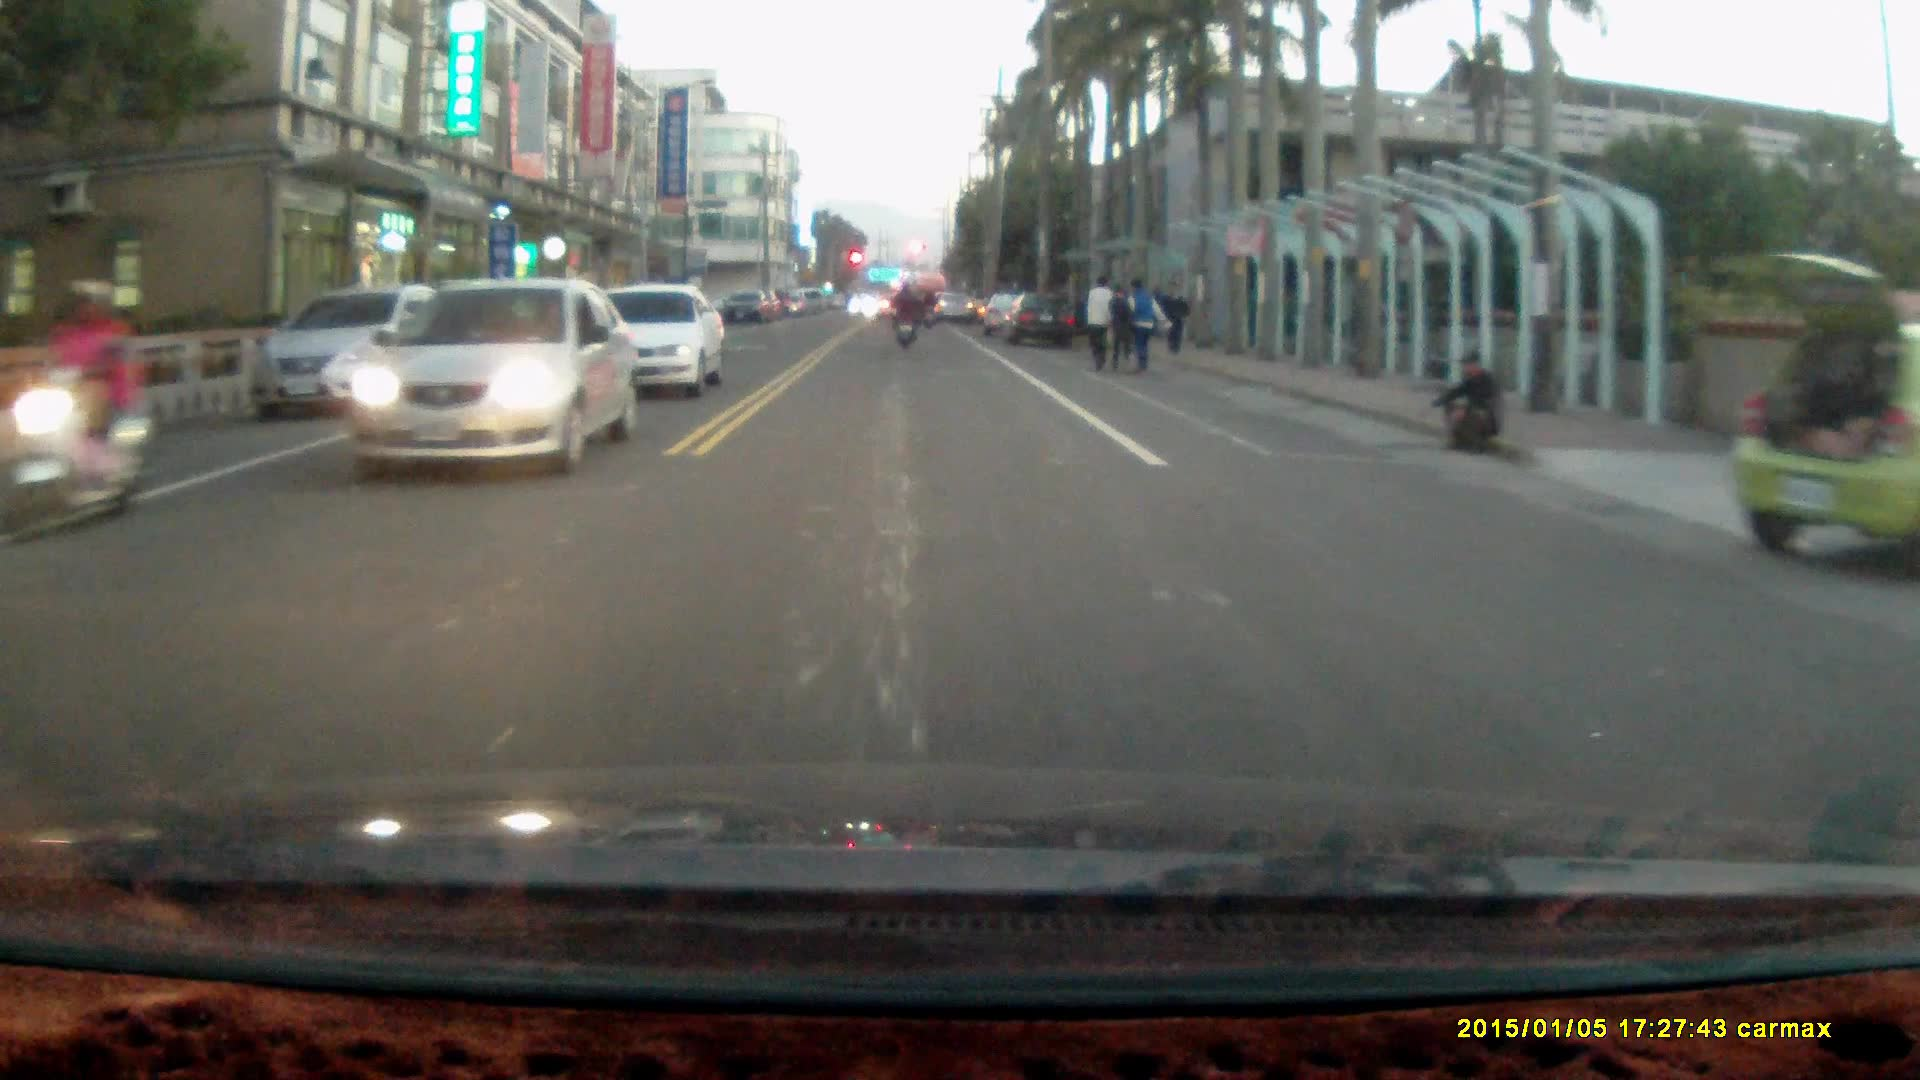pedestrian: (1432, 354, 1507, 457), (1114, 278, 1166, 380), (1084, 274, 1117, 373), (1102, 283, 1131, 372), (1157, 279, 1190, 356)
rider: (2, 276, 152, 543), (886, 278, 919, 353)
vehicle: (341, 280, 639, 481), (1731, 252, 1920, 567), (253, 289, 446, 424), (601, 284, 729, 403), (1000, 294, 1080, 349)
